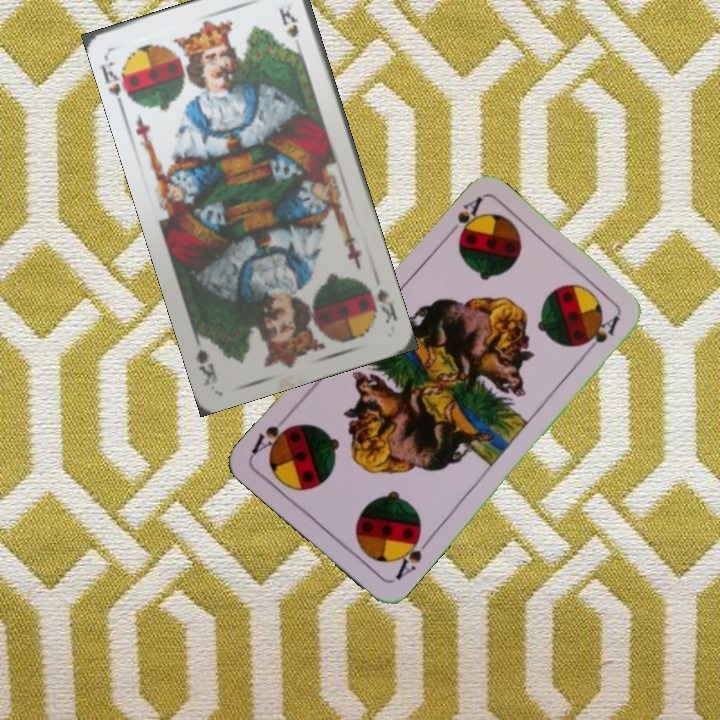SA: (390, 528, 434, 583), (440, 193, 485, 242)
SK: (98, 57, 138, 111), (373, 285, 401, 327)
